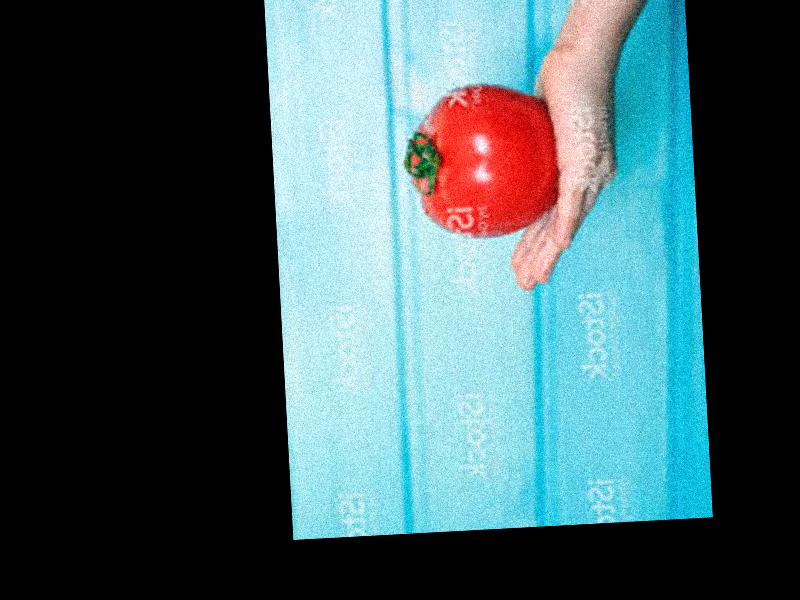Tomato: (402, 83, 562, 242)
